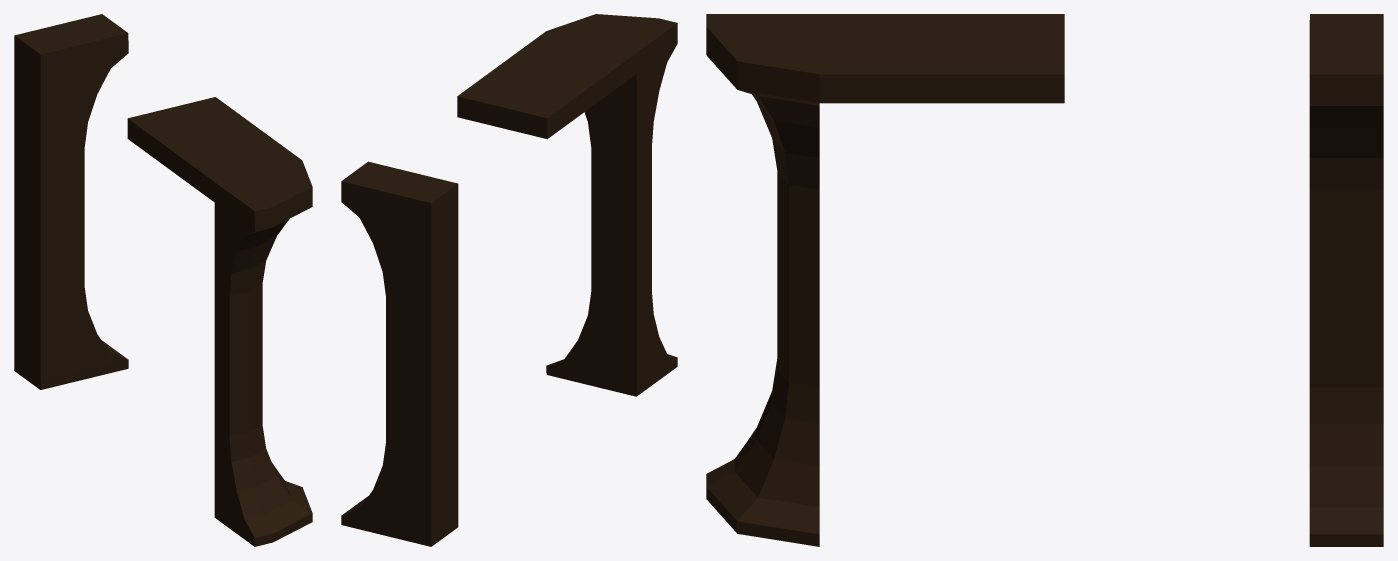
File: towerExteriorWoodPieces.fbx
3 views of the same model, side by side, from view 1: azimuth 30°, elevation 25°; view 2: azimuth 150°, elevation 25°; view 3: azimuth 270°, elevation 25° (orthographic). The views are drawn at different scales.
Visible parts, largest first — view 1: Cube.005, Cube.001, Cube.004; view 2: Cube.005, Cube.001, Cube.004; view 3: Cube.005, Cube.001, Cube.004.
Boxes of the visible parts, box(x1,y1,x2,y2) form: Cube.005: box(14, 14, 128, 389); Cube.001: box(214, 160, 312, 546); Cube.004: box(127, 97, 301, 202); Cube.005: box(341, 161, 458, 546); Cube.001: box(546, 14, 677, 396); Cube.004: box(457, 31, 636, 139); Cube.005: box(1309, 14, 1383, 546); Cube.001: box(706, 14, 819, 546); Cube.004: box(819, 14, 1064, 103).
Size of the model in its own units: 175 by 638 by 830.
